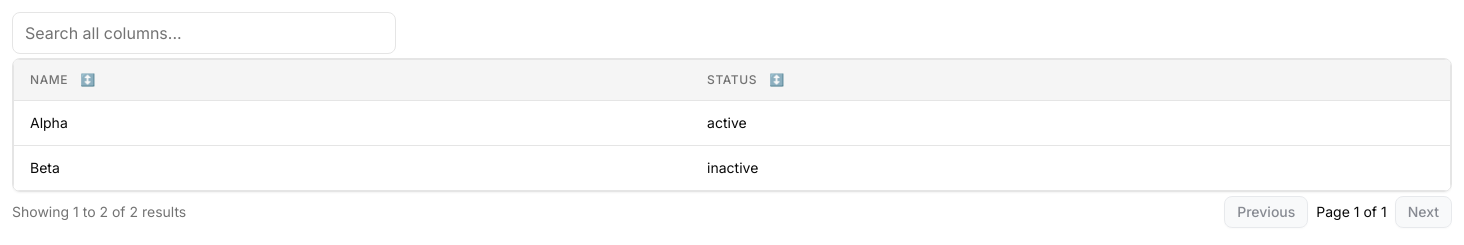
DataTable › renders columns, rows, and global search using current defaults
expect the column heading "Name ↕️" is shown: met, box [14,60,691,100]
expect the column heading "Status ↕️" is shown: met, box [691,60,1450,100]
Type "alpha" into the field with placeholder "Search all columns...".
click(204, 33); type("alpha")  # box [12,12,396,54]
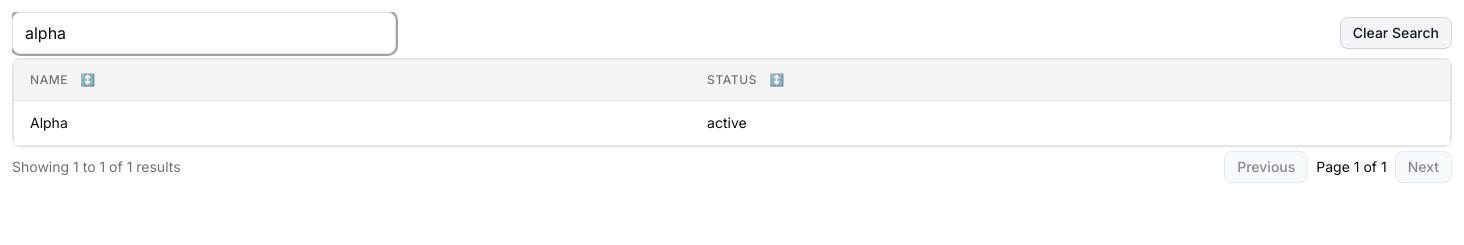
expect the text "Alpha" is shown: met, box [30,114,68,131]
expect the text "Beta" is gone: met
expect the text "Showing 1 to 1 of 1 results" is shown: met, box [12,157,181,177]
